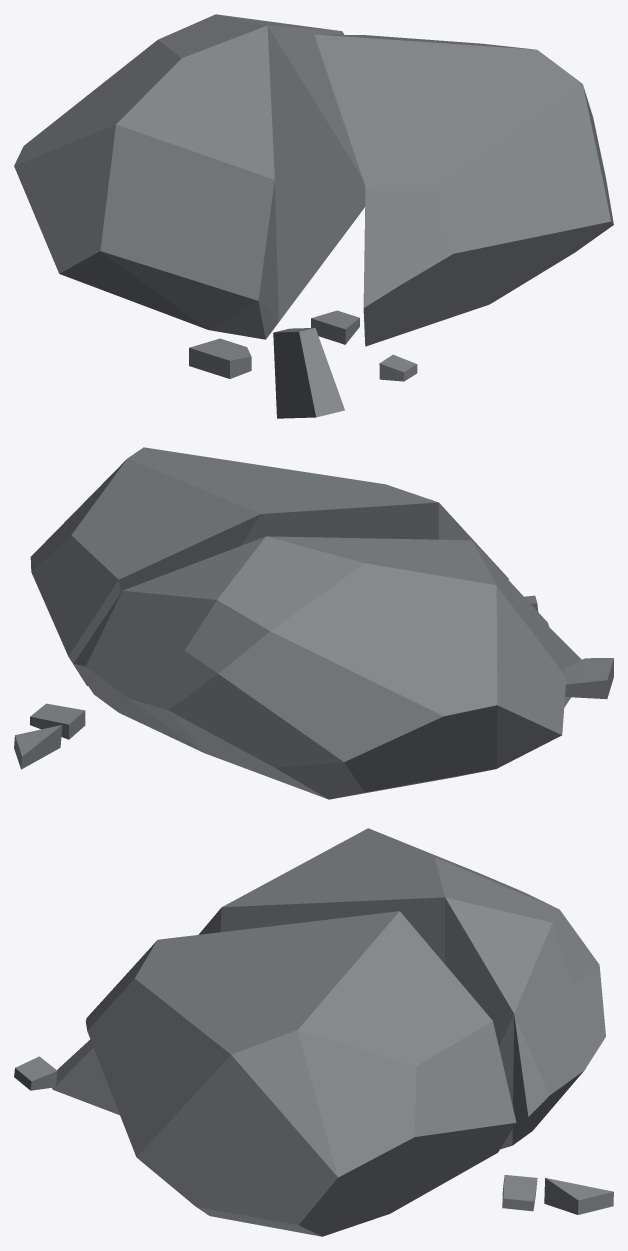
File: Rock_Round_crk_m_04.fbx
The picture shows the model from 3 angles, top to bottom: view 1: azimuth 30°, elevation 25°; view 2: azimuth 150°, elevation 25°; view 3: azimuth 270°, elevation 25°; orthographic projection. The views are drawn at different scales.
Visible parts, largest first — view 1: Rock_Round_crk_m_04; view 2: Rock_Round_crk_m_04; view 3: Rock_Round_crk_m_04.
Boxes of the visible parts, x1=… form: Rock_Round_crk_m_04: x1=14, y1=14, x2=613, y2=418; Rock_Round_crk_m_04: x1=14, y1=447, x2=613, y2=799; Rock_Round_crk_m_04: x1=14, y1=828, x2=613, y2=1236.
Bounding box in the file's own units: 142 × 66.83 × 130.
